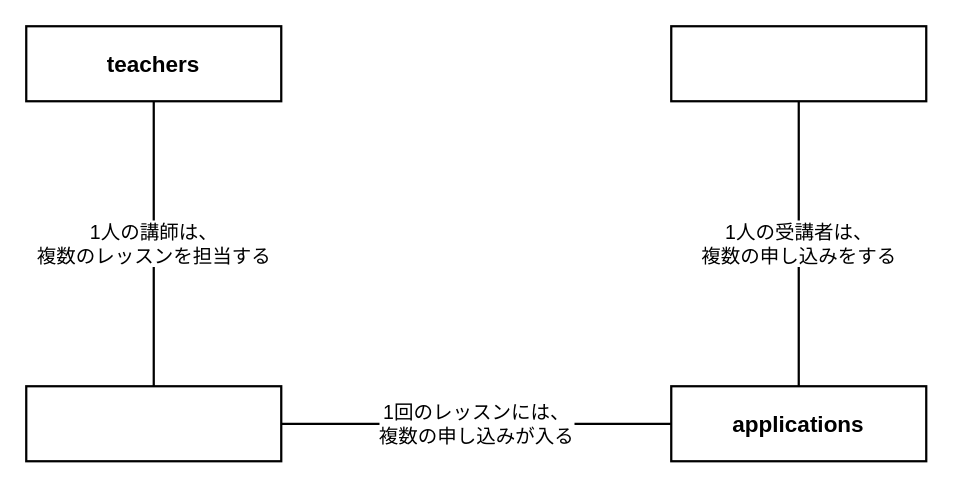
The diagram is 954 pixels wide and 489 high, and some of its shapes have lost their labels. Here are the shapes that lost their labels. From the top down, the centre of each, then its label:
At (798,63): "students".
At (153,423): "lessons".
